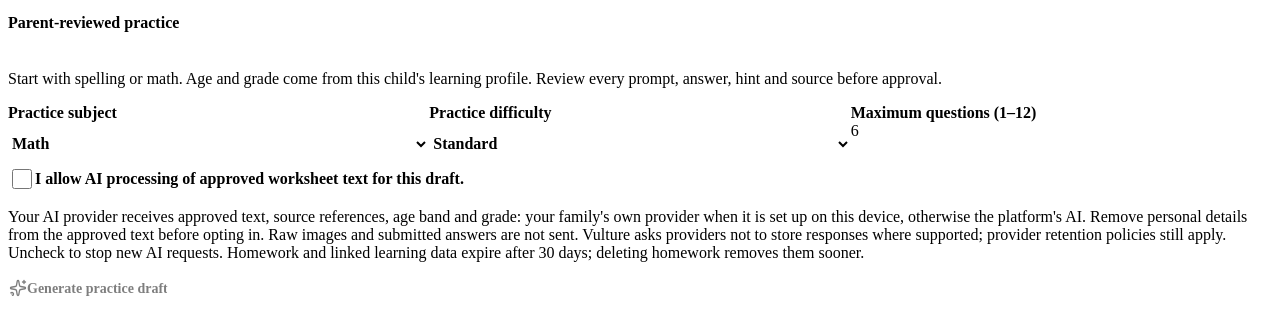
Test: Parent practice workspace › requires explicit opt-in and stops new generation when unchecked
Check: the button "Generate practice draft" is disabled, box [8,278,169,299]
Click the checkbox labelled "I allow AI" at (22, 178), box [12,168,32,188]
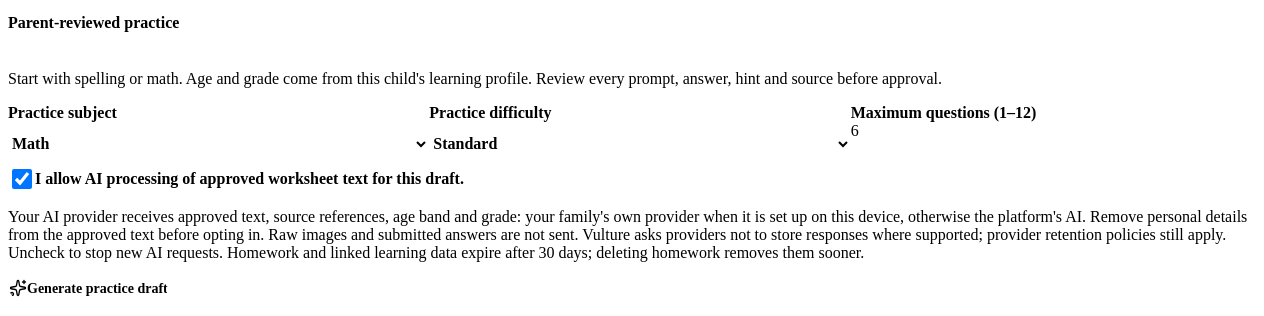
Check: the button "Generate practice draft" is enabled, box [8,278,169,299]
Click the checkbox labelled "I allow AI" at (22, 178), box [12,168,32,188]
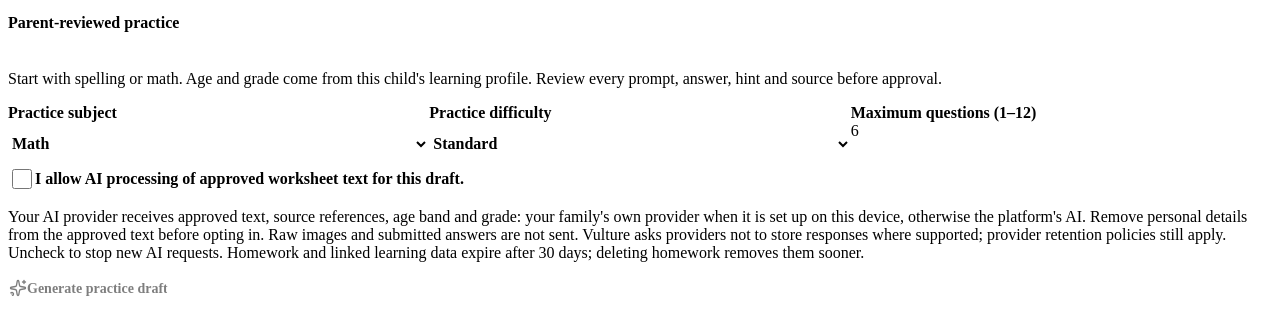
Check: the button "Generate practice draft" is disabled, box [8,278,169,299]
